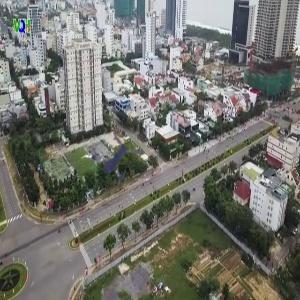drone: (80, 132, 147, 199)
